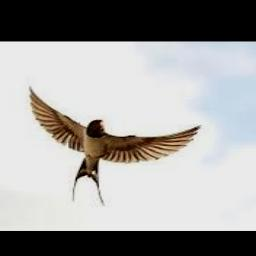Swallow: (28, 86, 199, 206)
